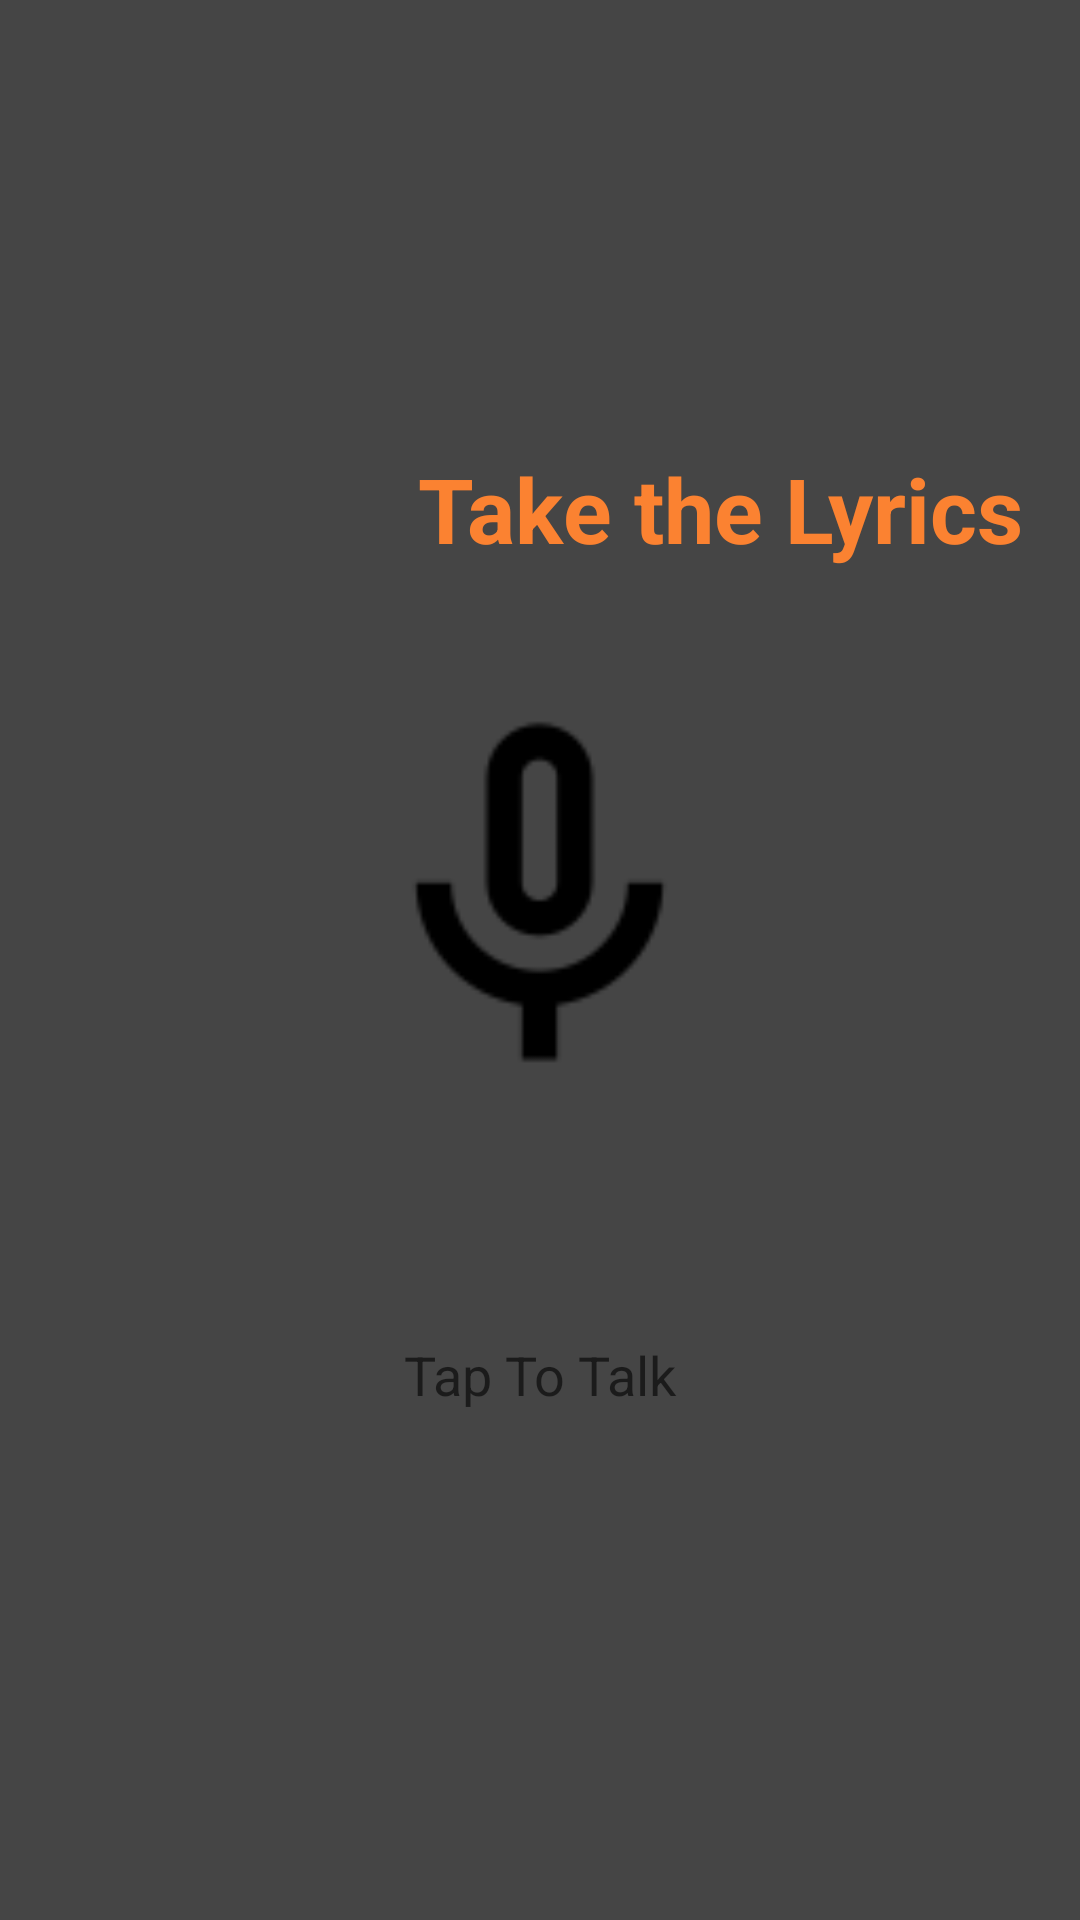

Screen size 1080×1920. Icon name, then its center in pixels as (x=x, y=y):
microphone: (x=539, y=892)
